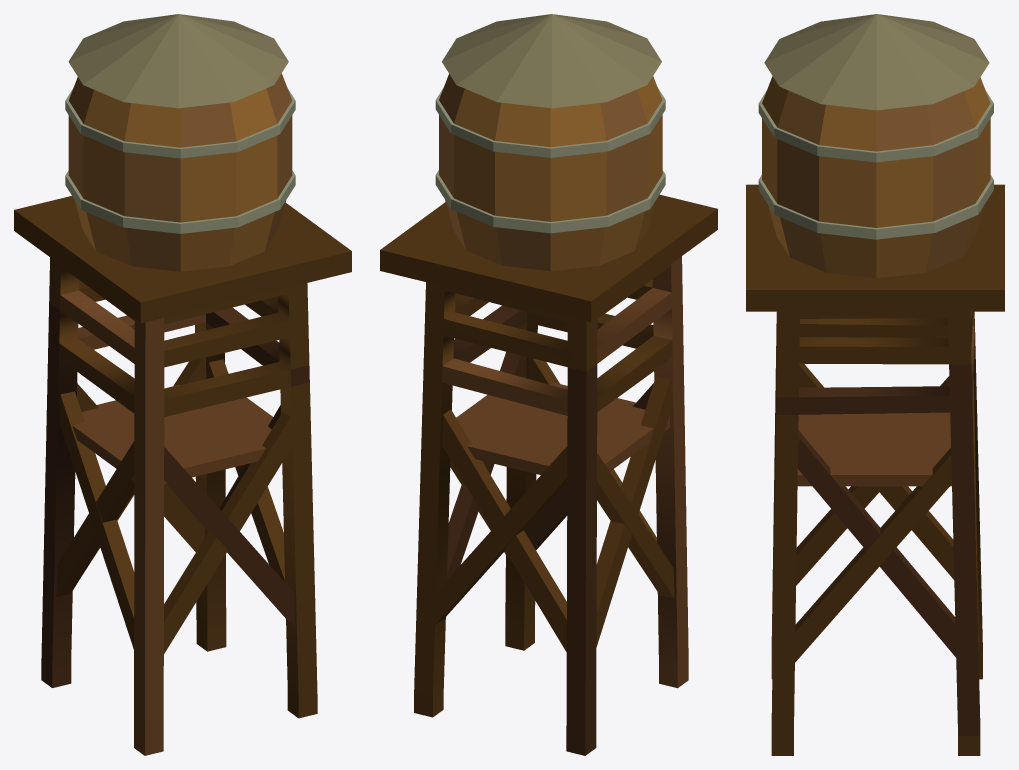
Rendered from WaterTower.fbx.
3 views of the same model, side by side, from view 1: azimuth 30°, elevation 25°; view 2: azimuth 150°, elevation 25°; view 3: azimuth 270°, elevation 25° (orthographic). The views are drawn at different scales.
Parts seen in each view (by area): view 1: Cube; view 2: Cube; view 3: Cube.
Part boxes in pixels (x1,y1,x2,y2): Cube: (14, 14, 351, 755); Cube: (380, 14, 717, 755); Cube: (746, 14, 1004, 755).
Size of the model in its own units: 411 by 1272 by 427.
